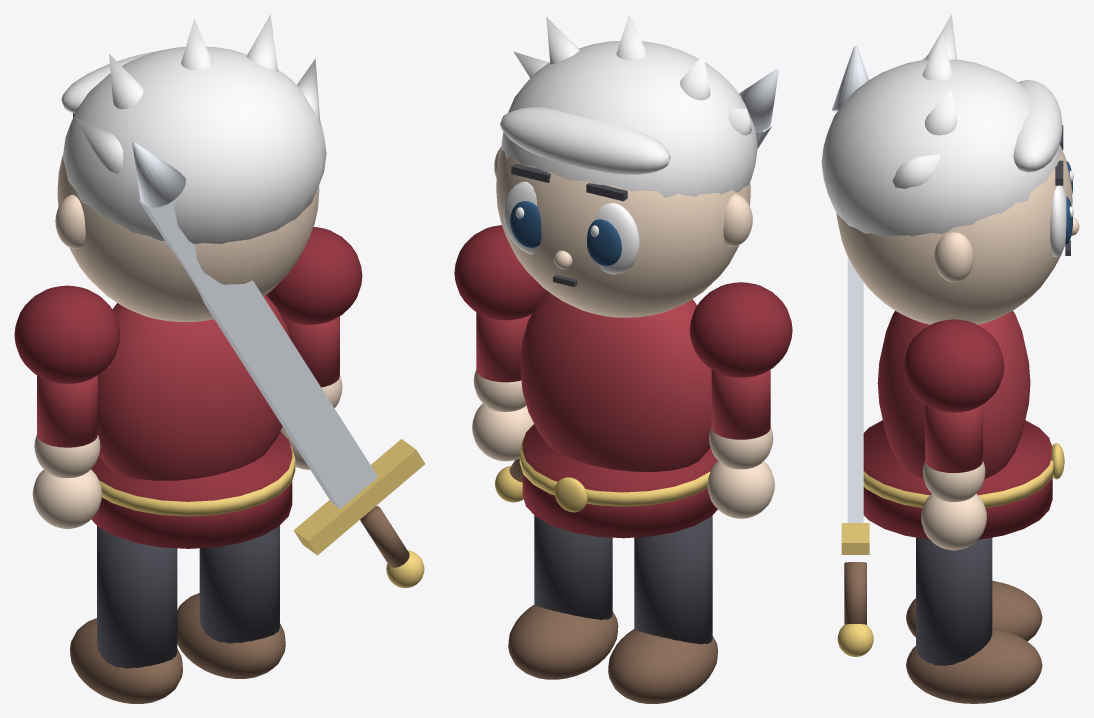
File: CHR_Warrior_01.glb
3 renders of one model, left to right at view 1: azimuth 30°, elevation 25°; view 2: azimuth 150°, elevation 25°; view 3: azimuth 270°, elevation 25°, orthographic. The views are drawn at different scales.
Parts seen in each view (by area): view 1: CHR_Warrior_01; view 2: CHR_Warrior_01; view 3: CHR_Warrior_01.
Part boxes in pixels (x1,y1,x2,y2): CHR_Warrior_01: [14, 14, 425, 703]; CHR_Warrior_01: [454, 14, 792, 703]; CHR_Warrior_01: [821, 14, 1079, 703].
Size of the model in its own units: 0.95 by 1.76 by 0.642.
